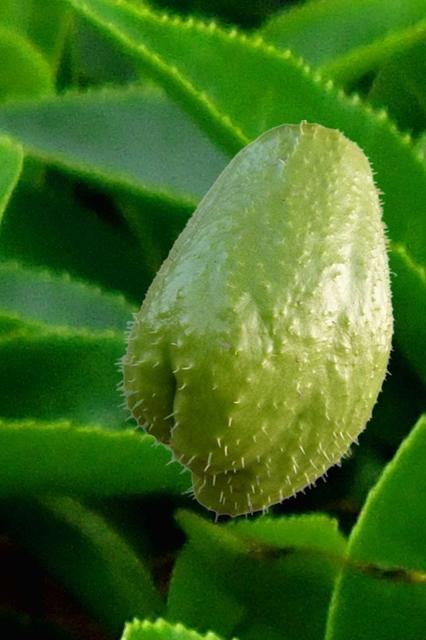sayote: (113, 120, 396, 521)
